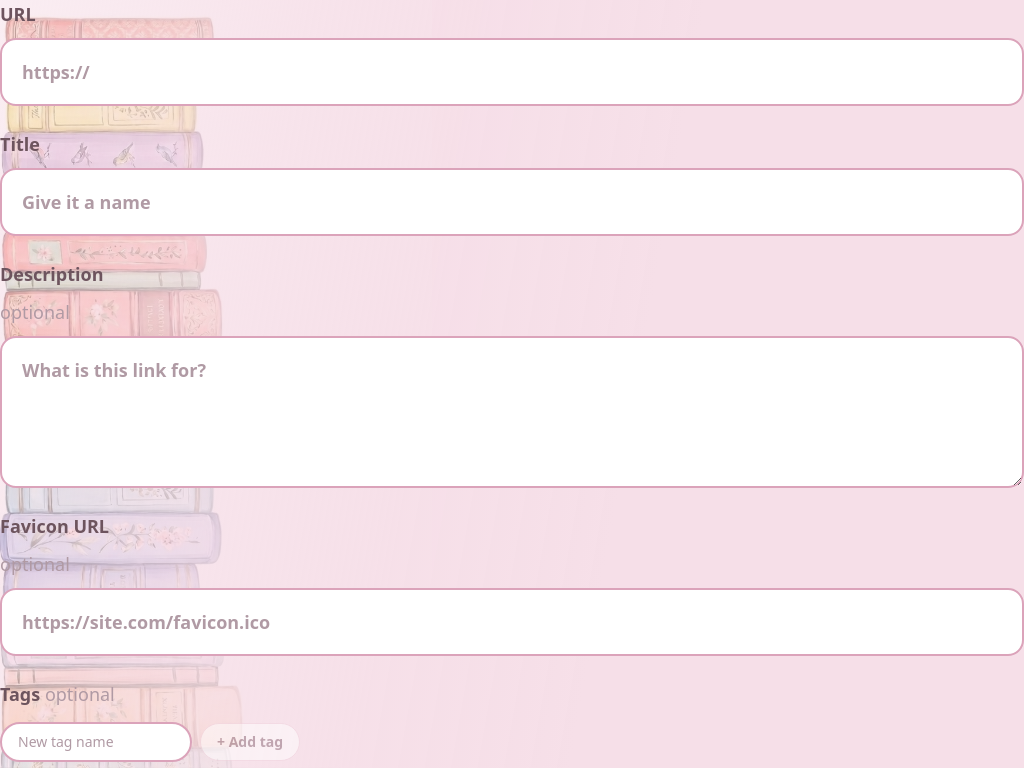
Test: BookmarkForm › shows a translated error when creating a duplicate tag fails
Type "reading" into the field labelled "New tag name" at (96, 742), box [0,722,192,762]
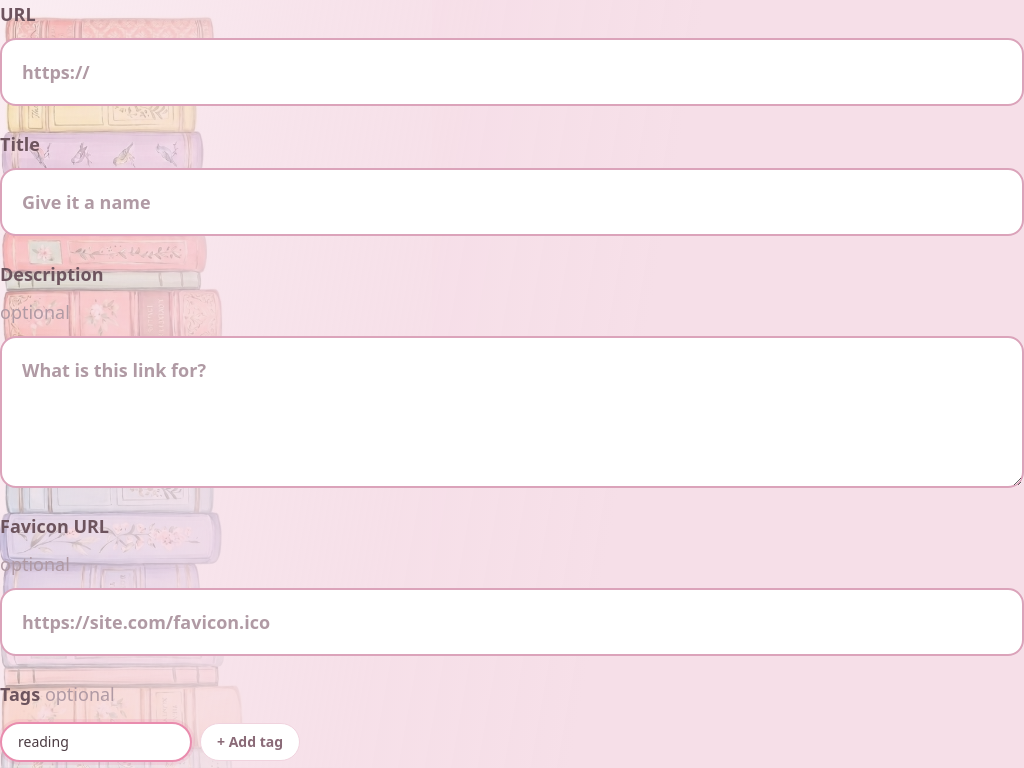
Click the button "+ Add tag" at (250, 742), box [200,723,300,761]
(page scrolled)
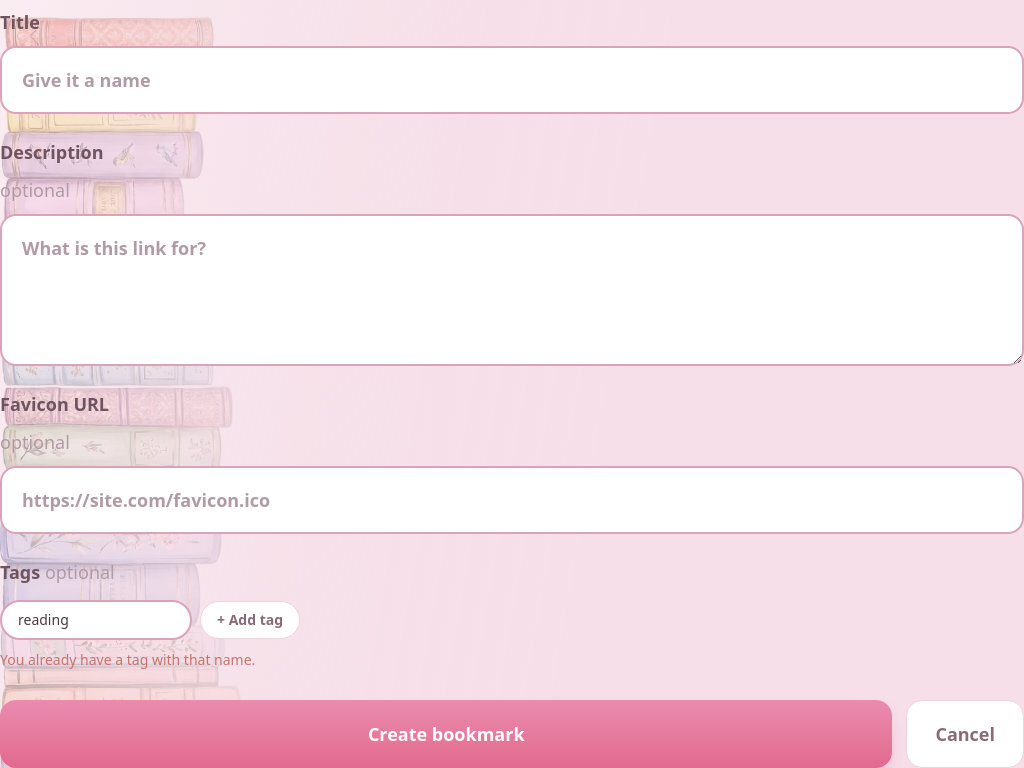
Result: the text "You already have a tag with that name." is shown at [0,650,255,669]
